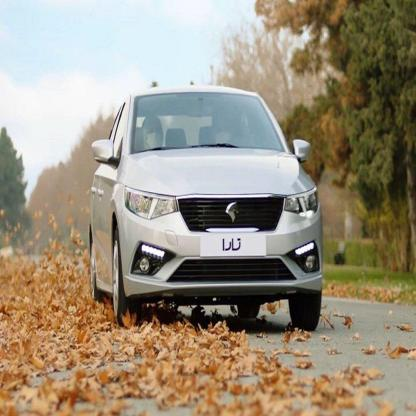Car: (81, 88, 322, 349)
